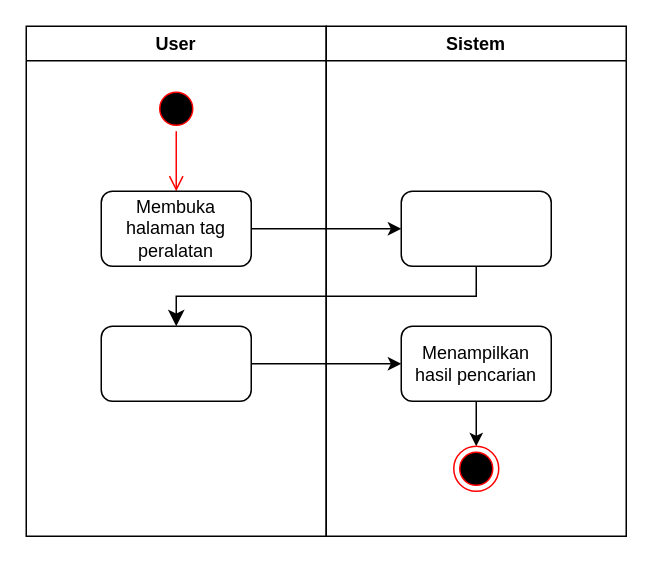
This 653x563 diagram has some shape labels left out. Here are the shapes that lost their labels. From the top down, the box of each, then its label:
(400, 190, 551, 266): Menampilkan halaman tipe peralatan
(100, 325, 251, 401): Tulis kata kunci yang ingin dicari
